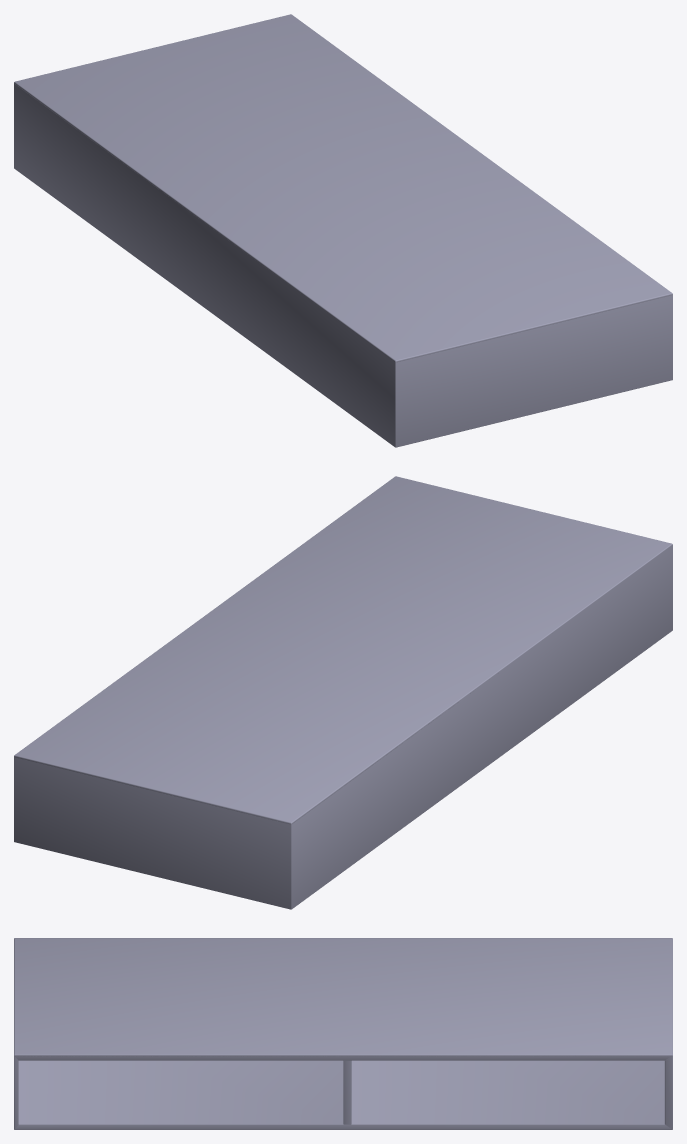
The model's file is storage.fbx.
The picture shows the model from 3 angles, top to bottom: view 1: azimuth 30°, elevation 25°; view 2: azimuth 150°, elevation 25°; view 3: azimuth 270°, elevation 25°; orthographic projection. The views are drawn at different scales.
Visible parts, largest first — view 1: Cube.1_4; view 2: Cube.1_4; view 3: Cube.1_4.
Boxes of the visible parts, x1,y1,x2,y2 form: Cube.1_4: (14, 14, 672, 447); Cube.1_4: (14, 476, 672, 909); Cube.1_4: (14, 938, 672, 1129).
Size of the model in its own units: 8400 by 2640 by 20000.
